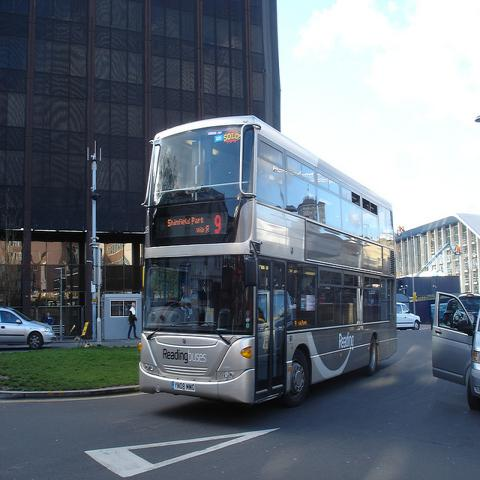bus: (138, 115, 398, 406)
car: (430, 290, 480, 412), (0, 306, 56, 348), (396, 303, 420, 331), (459, 294, 479, 326)
